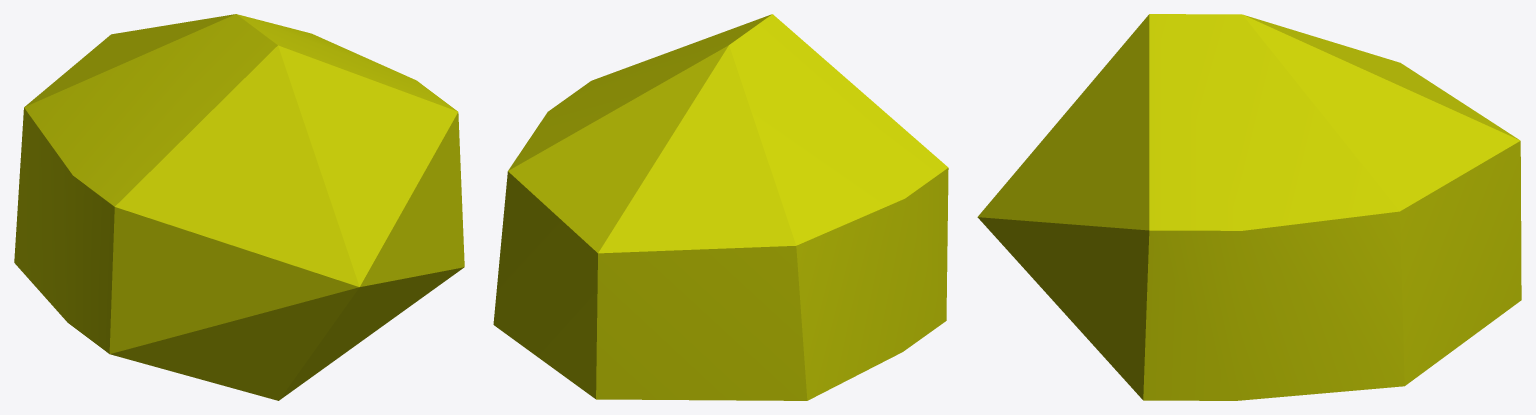
File: GobNose4.fbx
The picture shows the model from 3 angles, left to right: view 1: azimuth 30°, elevation 25°; view 2: azimuth 150°, elevation 25°; view 3: azimuth 270°, elevation 25°; orthographic projection. The views are drawn at different scales.
Visible parts, largest first — view 1: Icosphere; view 2: Icosphere; view 3: Icosphere.
Boxes of the visible parts, x1=… form: Icosphere: x1=14, y1=14, x2=464, y2=400; Icosphere: x1=493, y1=14, x2=948, y2=400; Icosphere: x1=977, y1=14, x2=1521, y2=400.
Bounding box in the file's own units: 0.0419 × 0.0397 × 0.0509.
